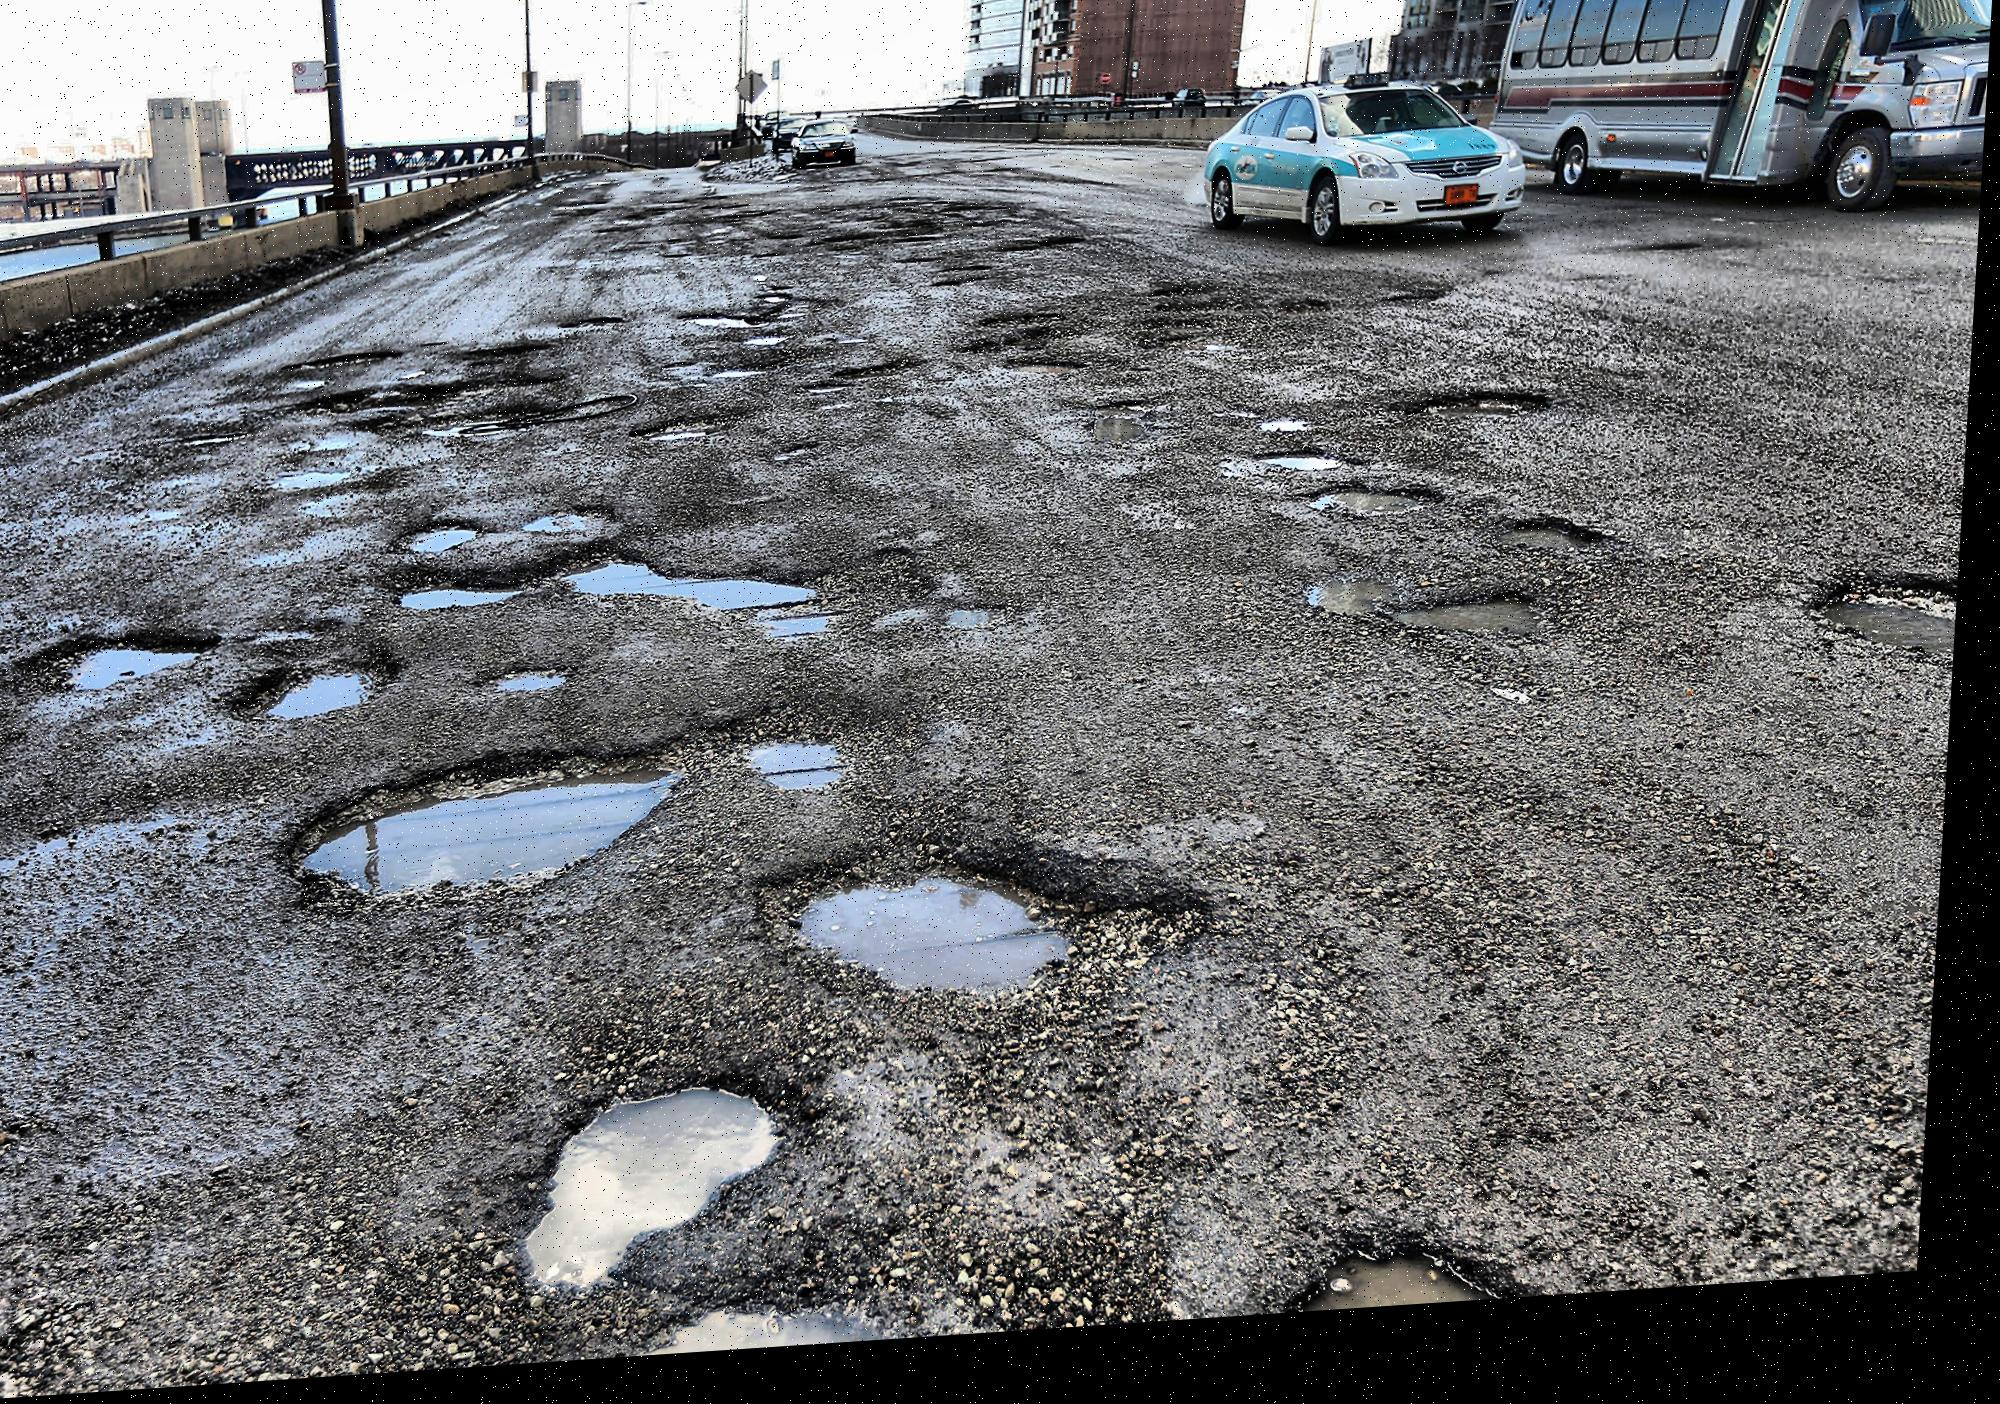pothole: (752, 833, 1172, 1036), (274, 755, 693, 931), (383, 504, 845, 661), (527, 1077, 804, 1310), (1304, 573, 1570, 676), (1799, 596, 1968, 702), (1307, 1249, 1520, 1333), (239, 653, 395, 746), (663, 1311, 929, 1355), (1287, 477, 1447, 547), (746, 723, 860, 819), (52, 632, 204, 697), (1483, 533, 1625, 585), (1252, 453, 1368, 501), (1456, 395, 1552, 450), (998, 363, 1099, 407), (635, 418, 720, 465), (1175, 340, 1239, 387), (696, 311, 760, 354), (284, 474, 350, 500), (766, 494, 777, 517)
